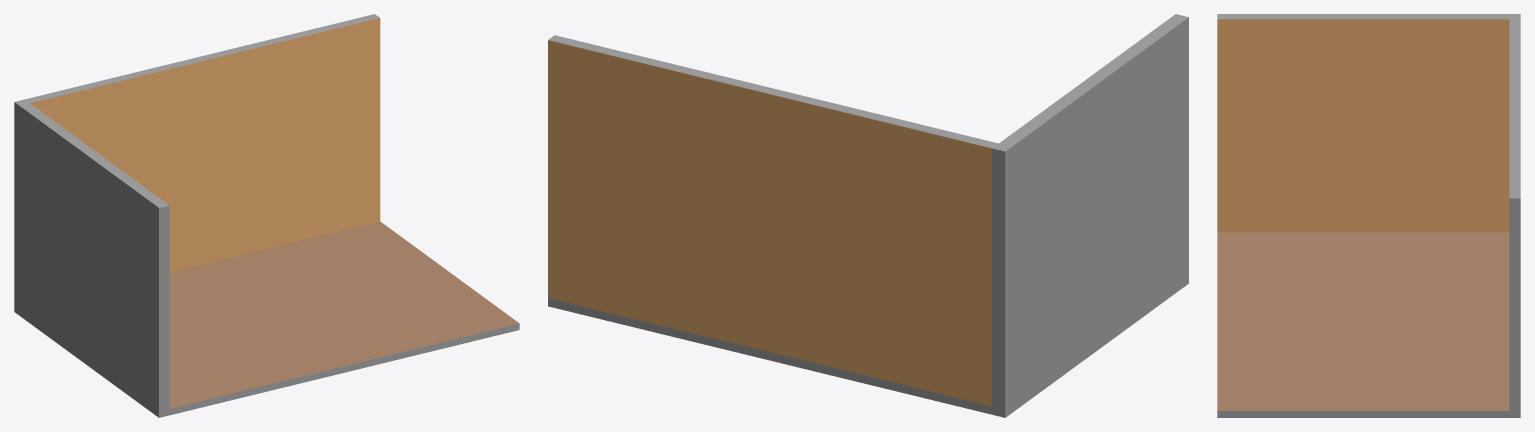
The model's file is Room_Start.fbx.
3 views of the same model, side by side, from view 1: azimuth 30°, elevation 25°; view 2: azimuth 150°, elevation 25°; view 3: azimuth 270°, elevation 25° (orthographic). The views are drawn at different scales.
Parts seen in each view (by area): view 1: Room; view 2: Room; view 3: Room.
Boxes of the visible parts, x1,y1,x2,y2 form: Room: [14, 14, 519, 417]; Room: [548, 14, 1188, 417]; Room: [1217, 14, 1520, 417].
Size of the model in its own units: 503 by 280 by 350.
